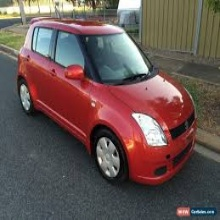no damage: (17, 17, 197, 186)
